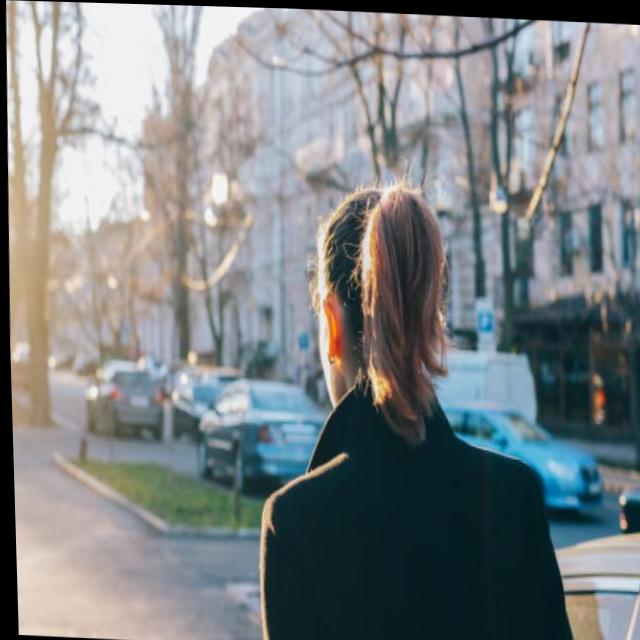no helmet: (304, 185, 453, 436)
